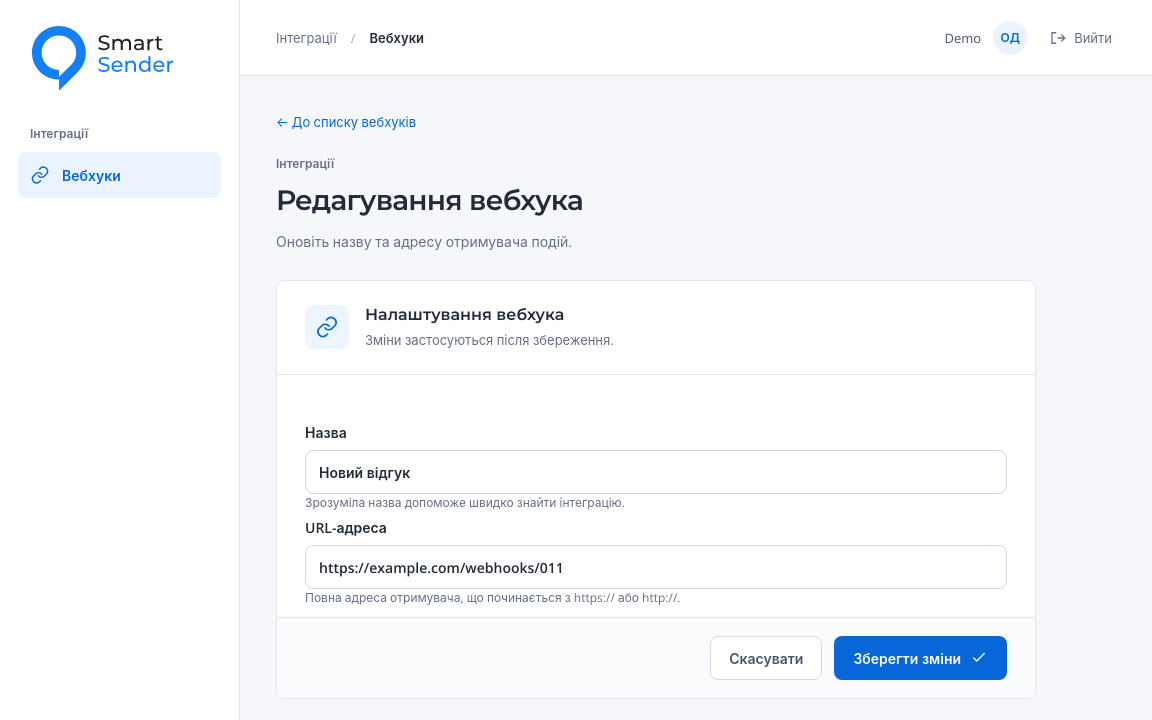
Scenario: EditWebhookActor component › edits the webhook in the store and saves current store values through the UI
Replace the text in the field labelled "Назва Зрозуміла назва допоможе швидко знайти інтеграцію." with "Store value". click: (656,472)
box: [305,450,1007,494]
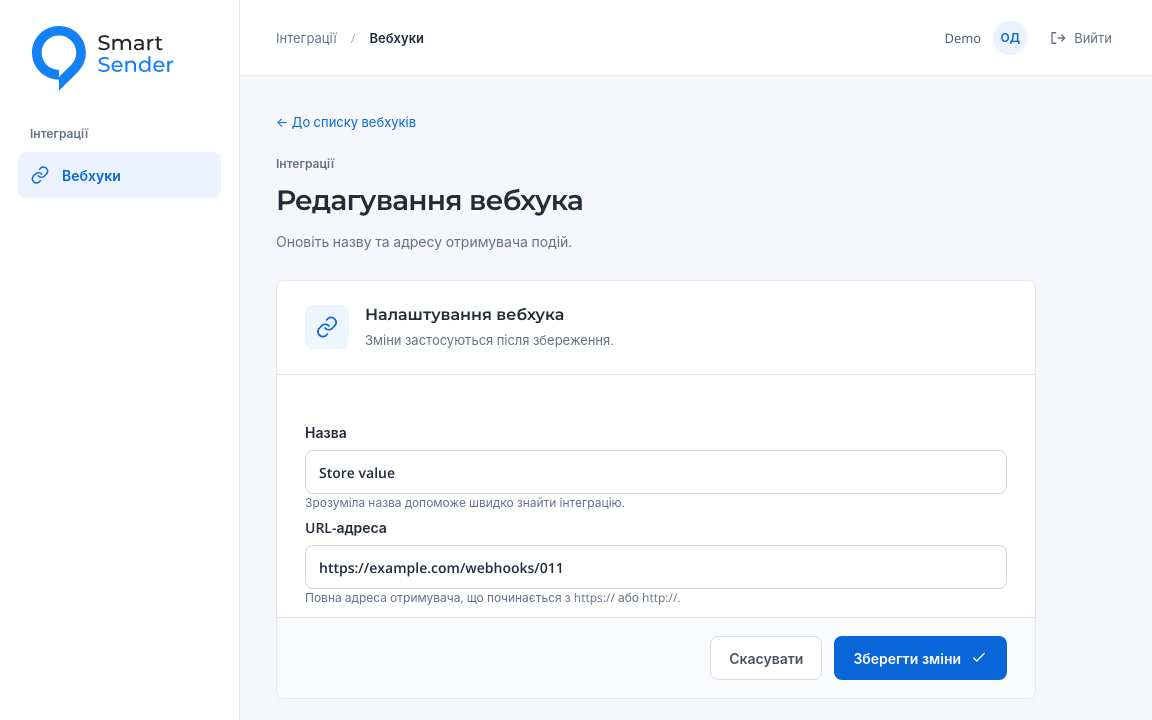
Replace the text in the field labelled "URL" with "https://example.org/store-value". click: (656,567)
box: [305,545,1007,589]
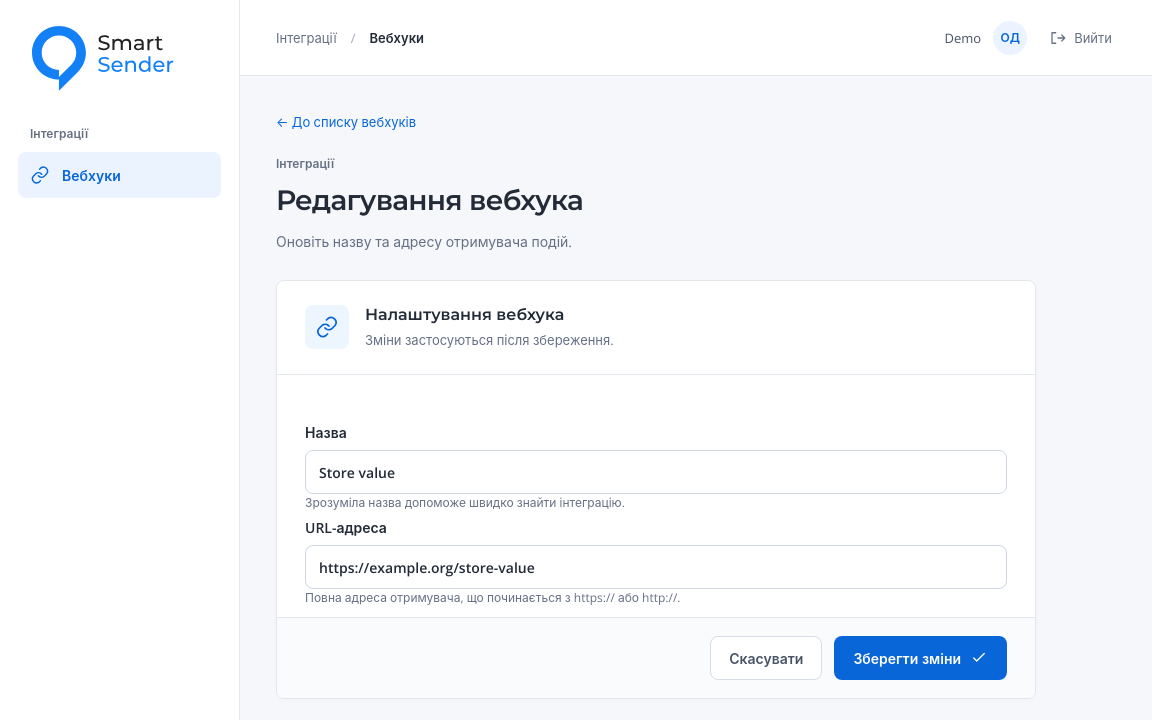
Click the button "Зберегти зміни". click: (921,658)
box: [834,636,1007,680]
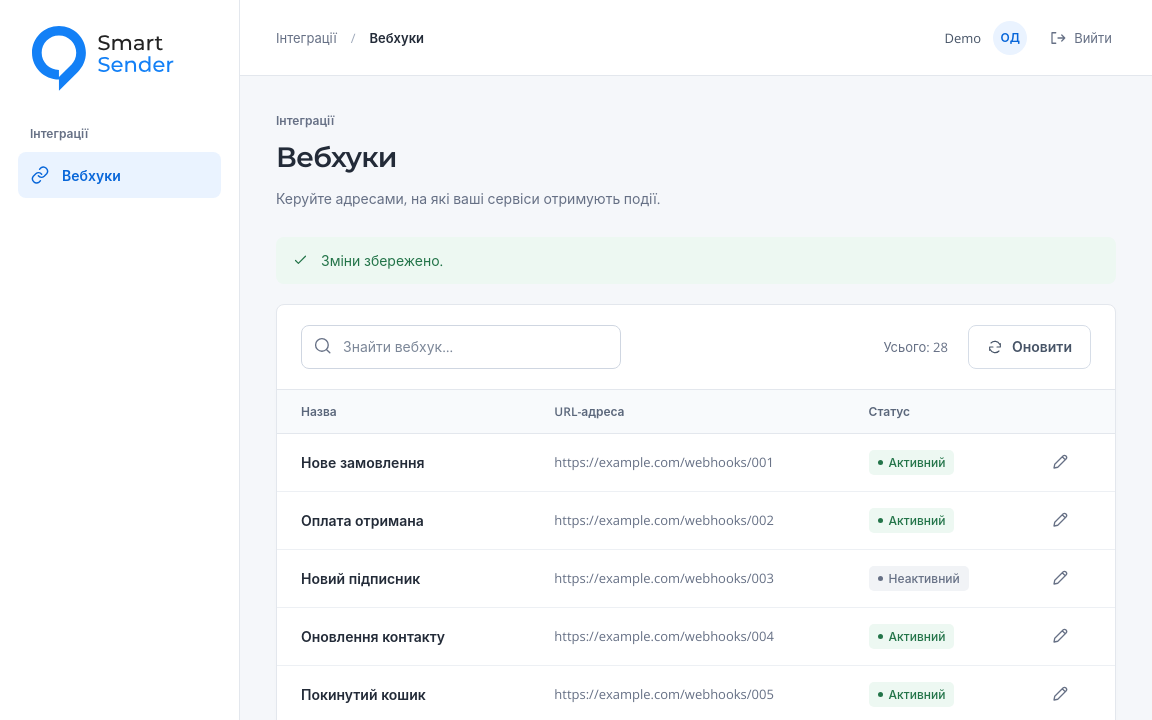
Expected: the text "Зміни збережено." is shown, [276,237,1116,284]
